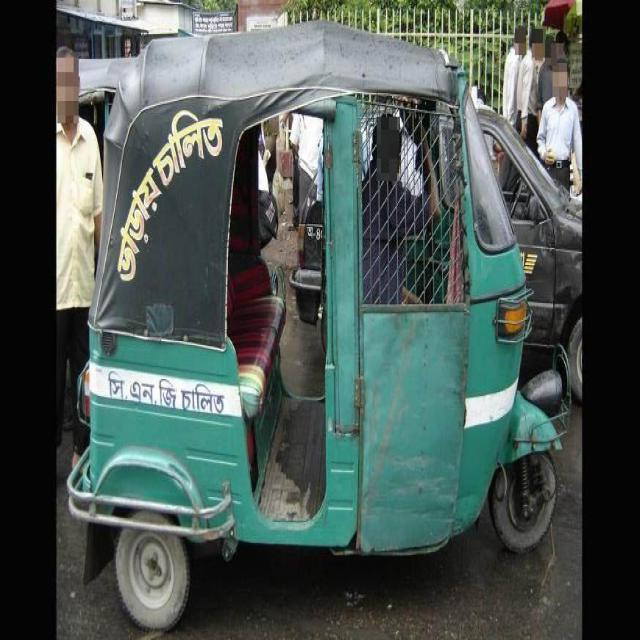CNG: (34, 15, 593, 636)
